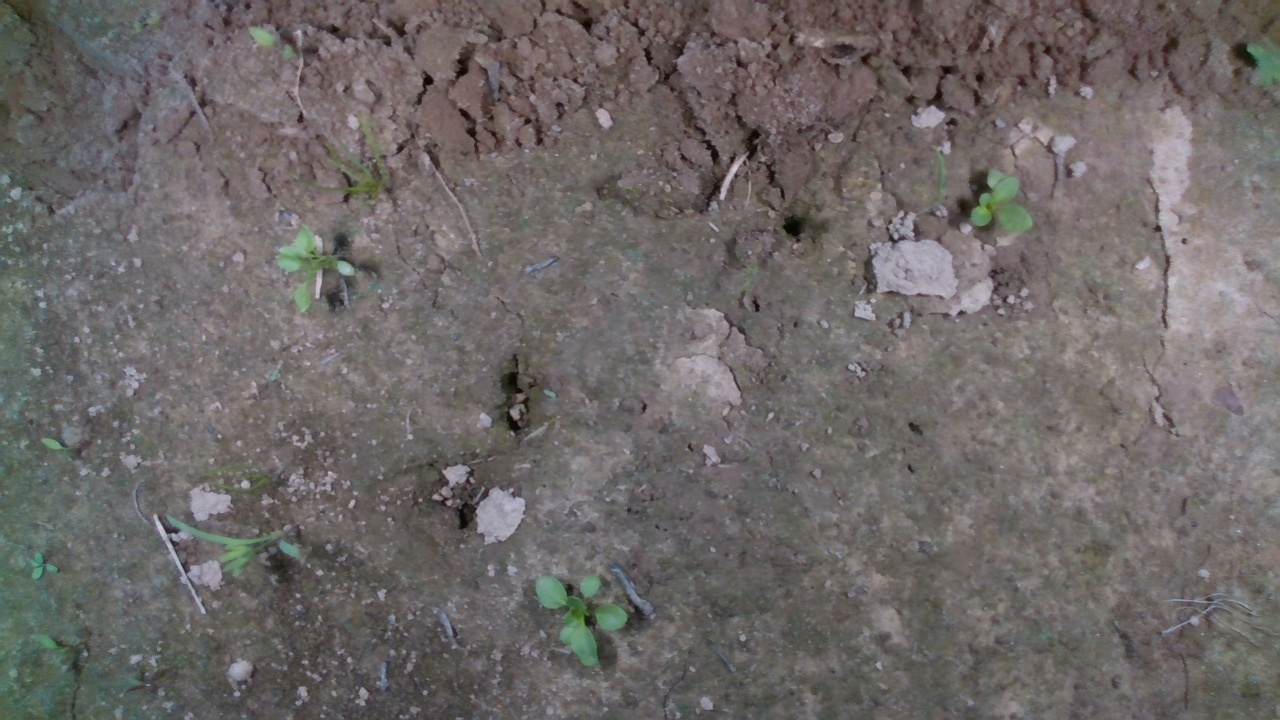weed: (25, 549, 60, 582)
